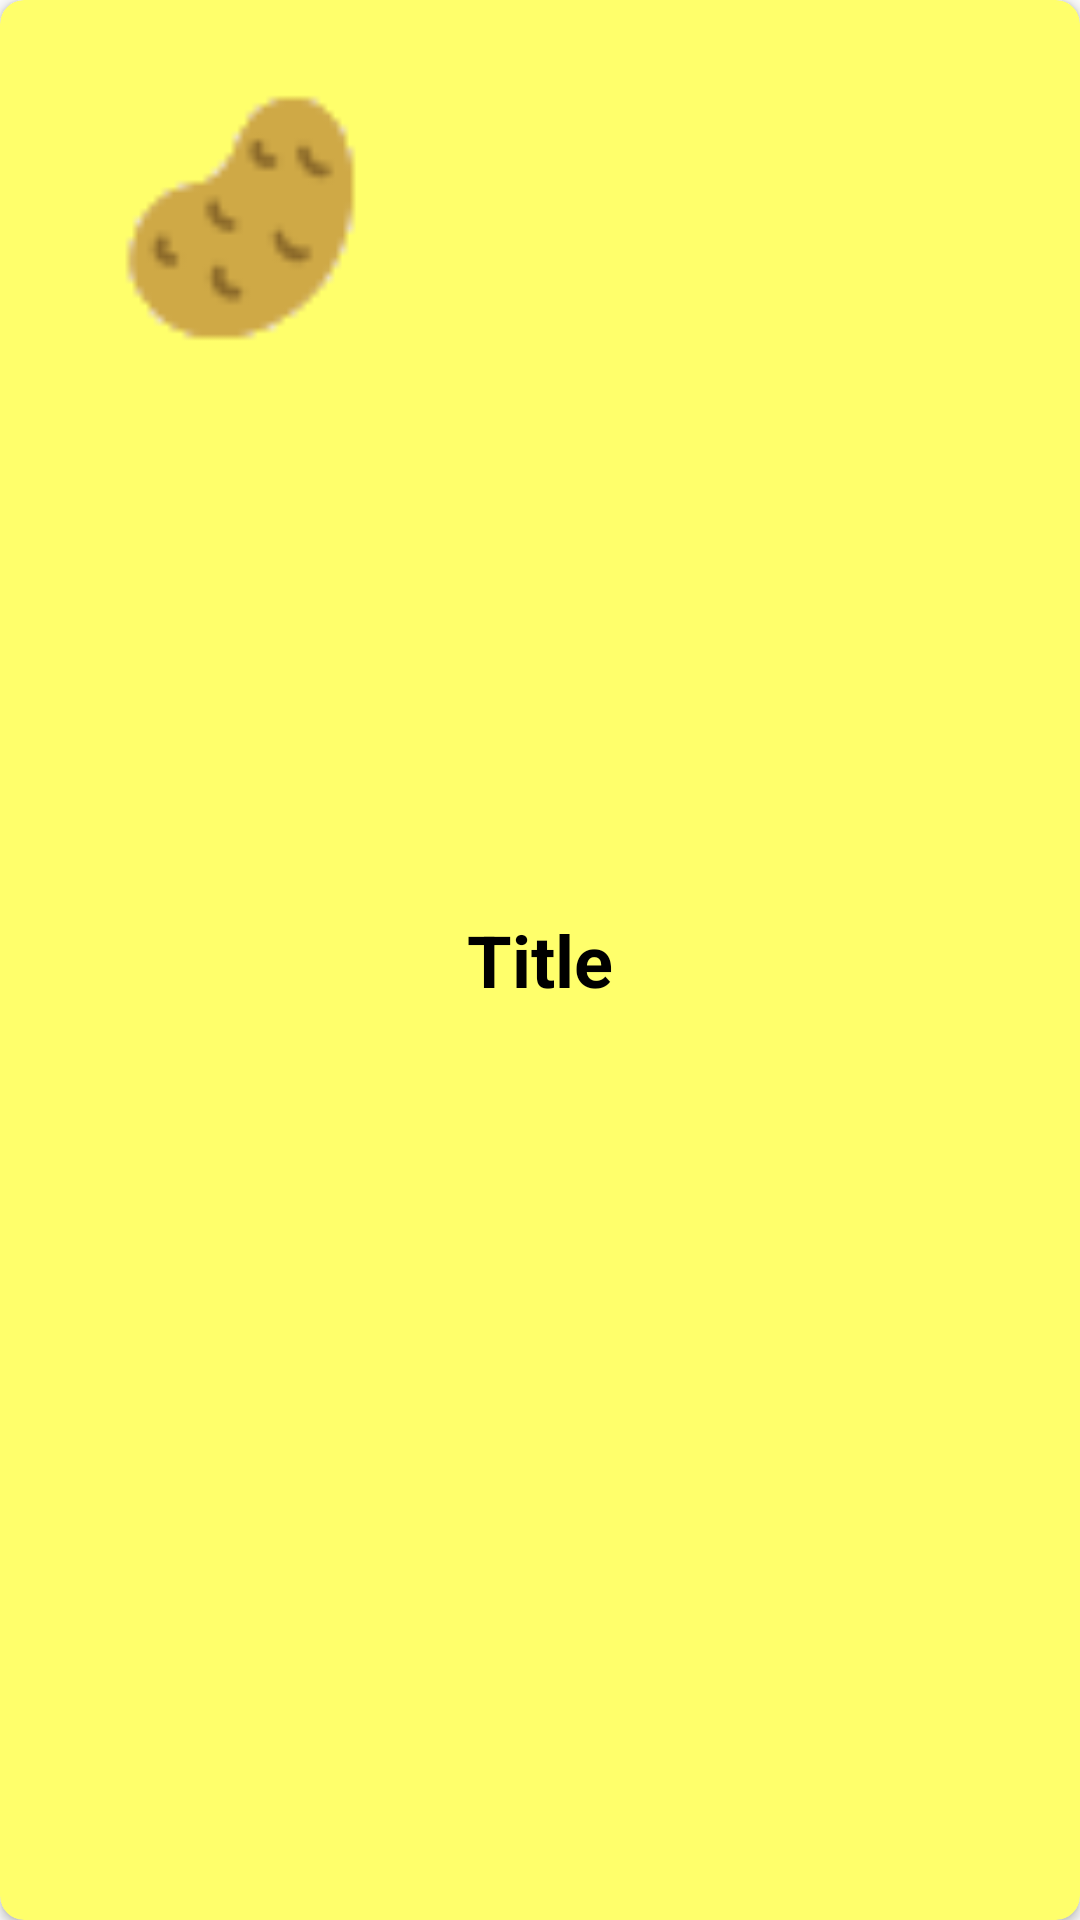

Where to tap for icons on this 1080w x 1920h app screen, as [x,y]:
potatp: [177,169]
